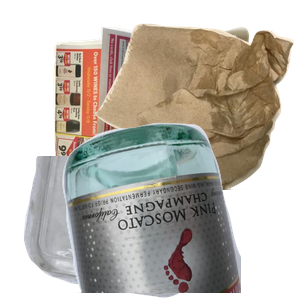glass: (60, 120, 300, 300)
paper: (51, 24, 291, 204)
plastic: (21, 156, 226, 300)
trash: (92, 21, 300, 201)
